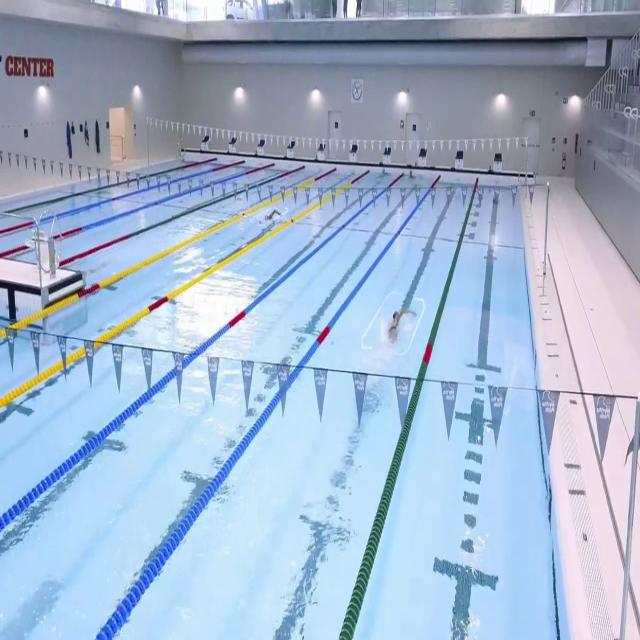Swimming: (386, 308, 416, 346), (264, 208, 283, 222)
